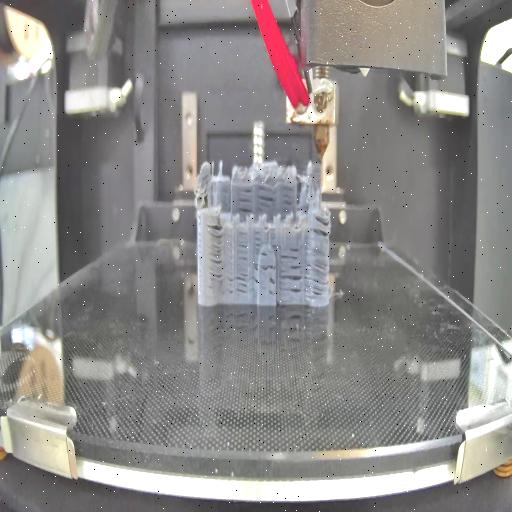cracks: (304, 249, 330, 297), (205, 220, 222, 286), (280, 264, 303, 300), (225, 268, 247, 296), (310, 212, 330, 238), (256, 184, 274, 210), (237, 186, 253, 214), (238, 232, 250, 262), (279, 188, 291, 214), (280, 246, 298, 262), (250, 262, 258, 296), (252, 229, 262, 249), (270, 226, 278, 249), (268, 278, 277, 298), (258, 264, 276, 272), (260, 250, 268, 256)
